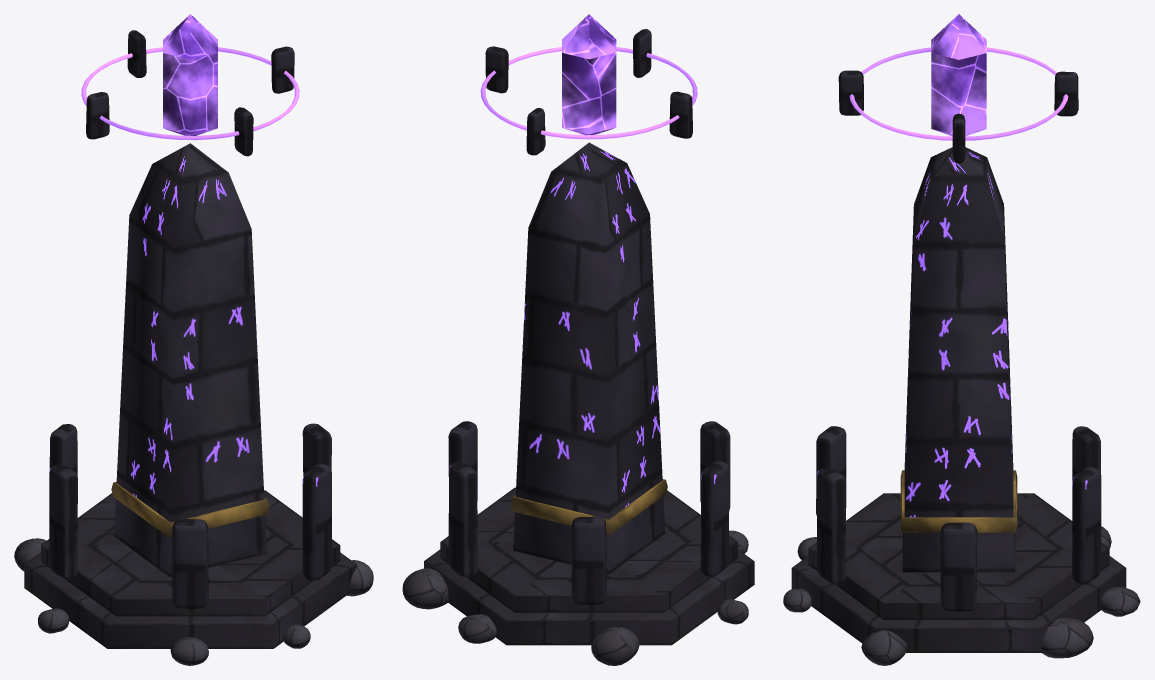
Rendered from rune.glb.
The picture shows the model from 3 angles, left to right: view 1: azimuth 30°, elevation 25°; view 2: azimuth 150°, elevation 25°; view 3: azimuth 270°, elevation 25°; orthographic projection.
Visible parts, largest first — view 1: Base, Turret; view 2: Base, Turret; view 3: Base, Turret.
Part boxes in pixels (x1,y1,x2,y2): Base: (14, 143, 373, 665); Turret: (81, 14, 299, 156); Base: (402, 142, 754, 665); Turret: (480, 14, 697, 155); Base: (783, 147, 1140, 665); Turret: (838, 14, 1078, 163).
Size of the model in its own units: 0.8731 by 1.63 by 0.8965.
Materials: 6 (6 with a texture image).
